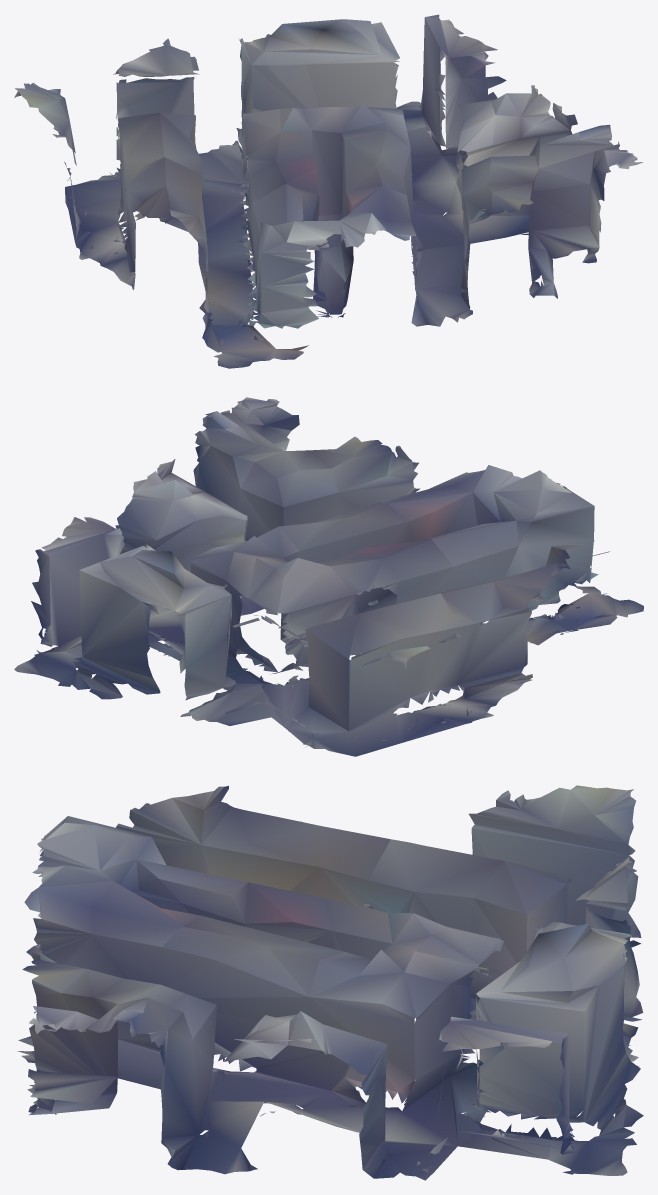
The picture shows the model from 3 angles, top to bottom: view 1: azimuth 30°, elevation 25°; view 2: azimuth 150°, elevation 25°; view 3: azimuth 270°, elevation 25°; orthographic projection. The views are drawn at different scales.
Bounding box in the file's own units: 109 × 31.16 × 108.
